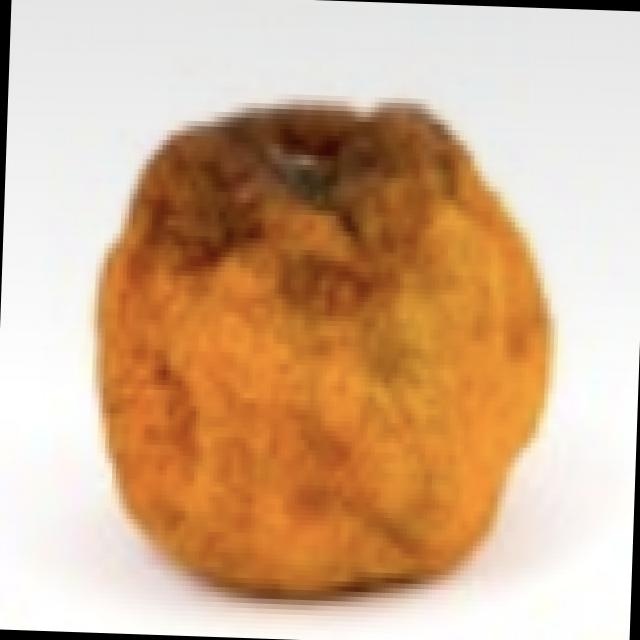rotten-orange: (70, 85, 565, 602)
